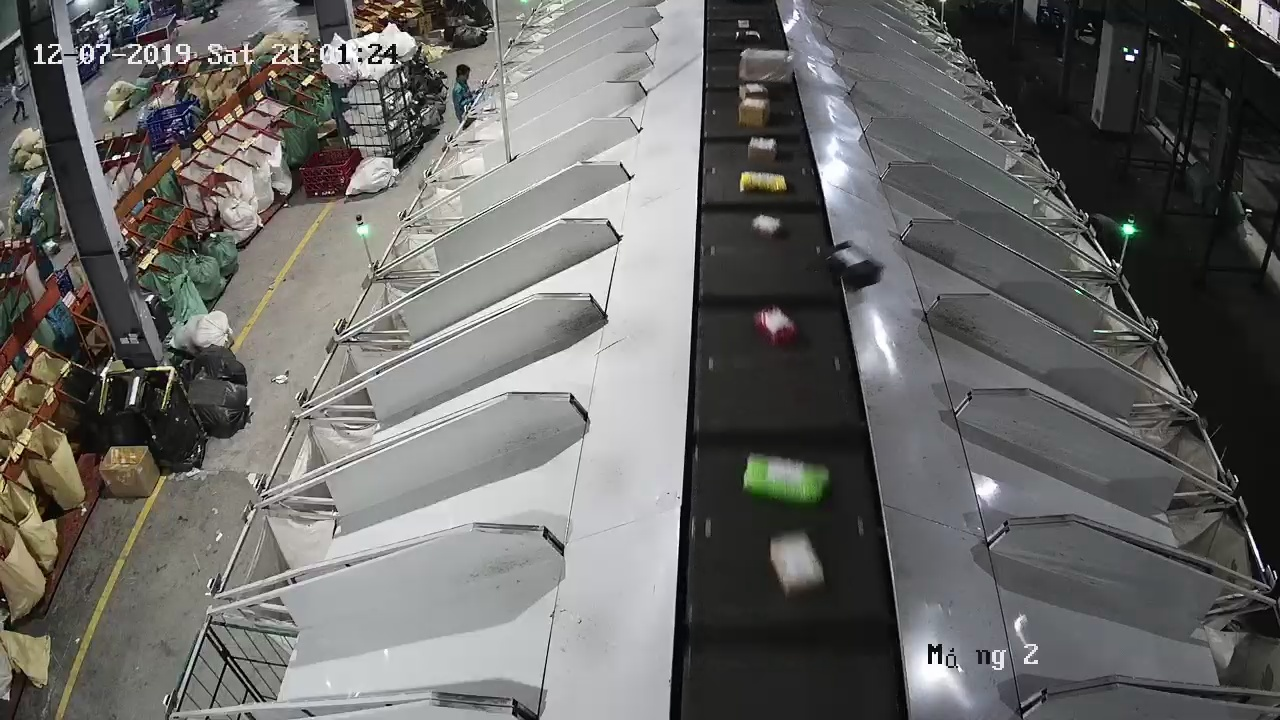parcel: (822, 239, 882, 292)
